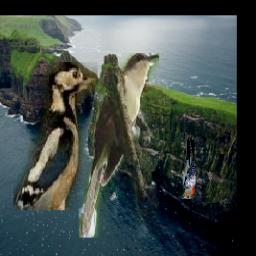Cuckoo: (79, 54, 159, 239)
Woodpecker: (13, 63, 98, 211), (175, 136, 196, 200)
